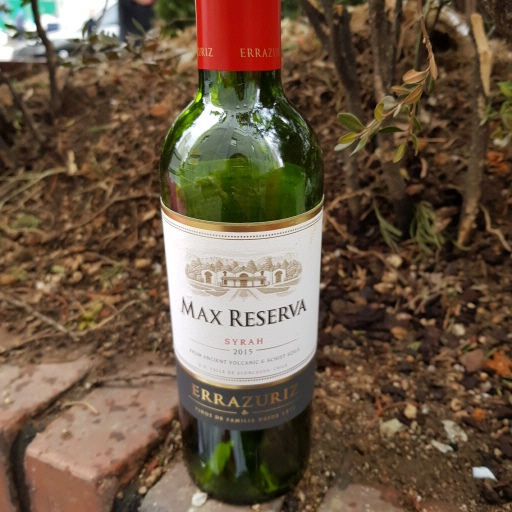Glass_2: (150, 1, 322, 502)
